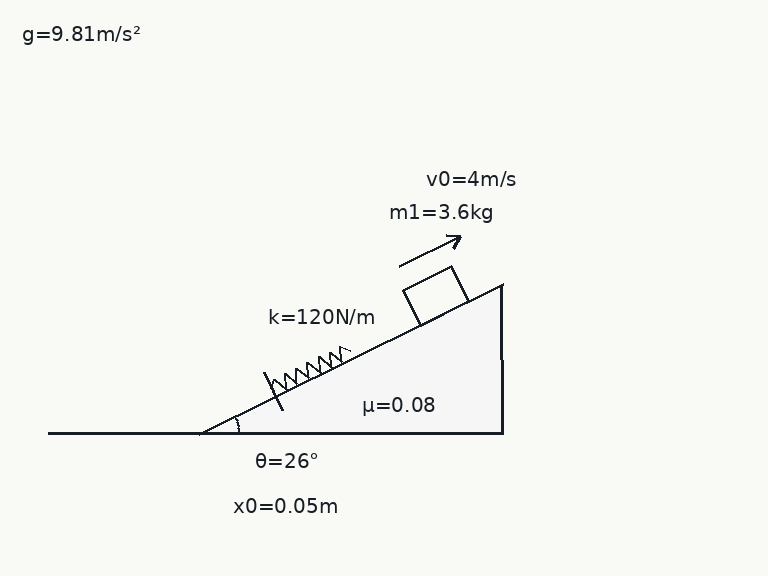block: (401, 264, 470, 327)
ramp: (197, 283, 505, 435)
spring: (269, 344, 352, 391)
